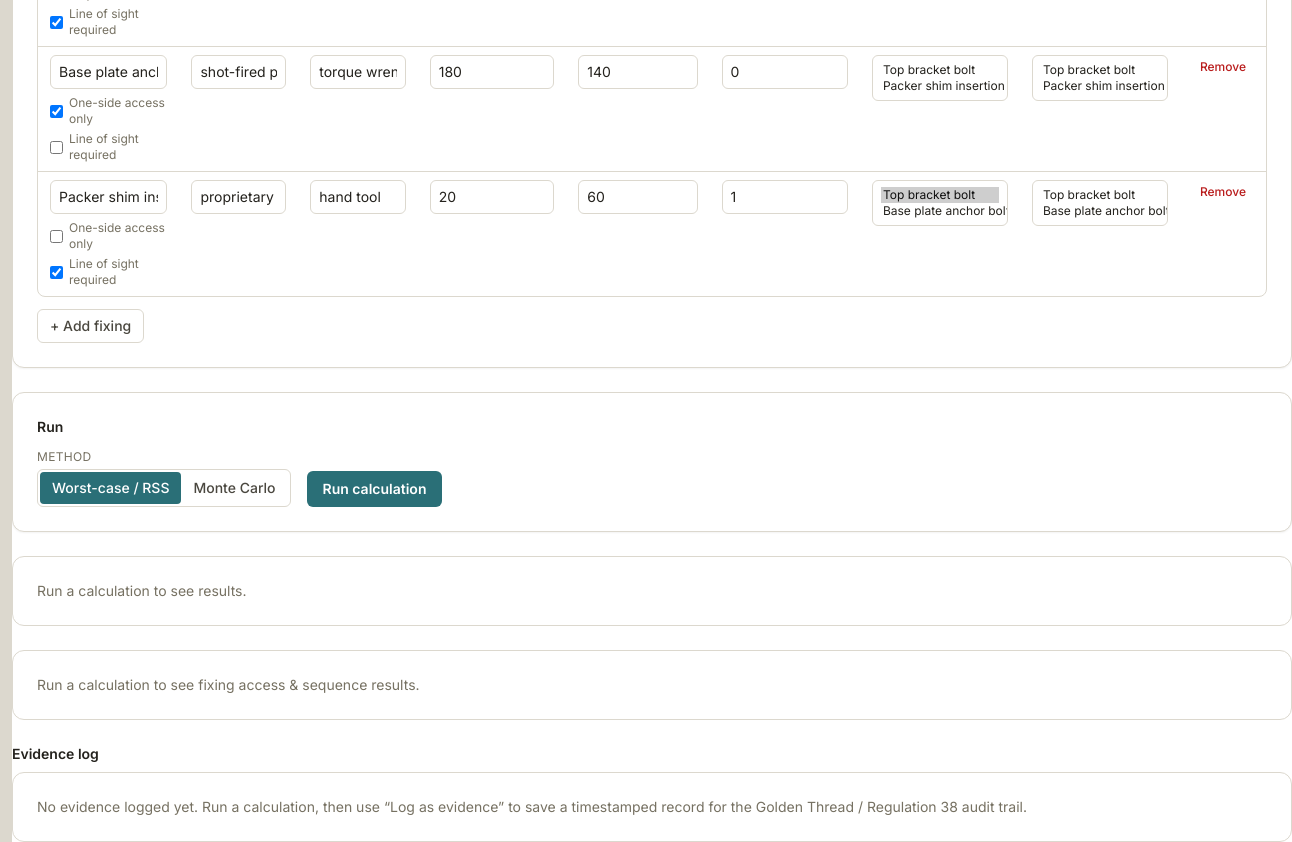
it: DvaTool end-to-end wiring › runs the buildability check alongside the dimensional one, on the preset fixings
(page scrolled)
Click the button "Run calculation": click(374, 489) [306,471,442,507]
(page scrolled)
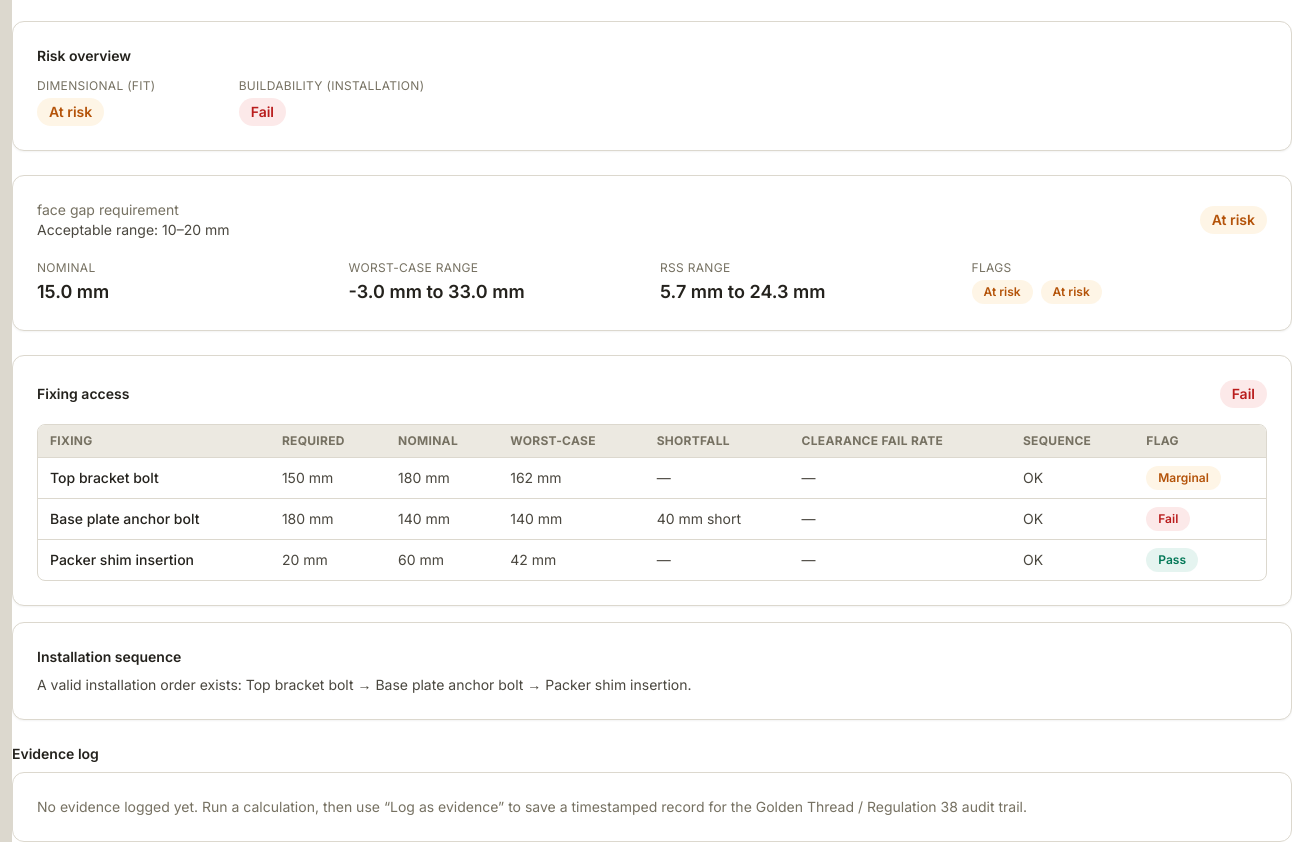
expect the text "Dimensional (fit)" is shown: met, box [37,78,156,93]
expect the text "Buildability (installation)" is shown: met, box [239,78,424,94]
expect the text "Top bracket bolt" is shown: met, box [38,458,270,498]
